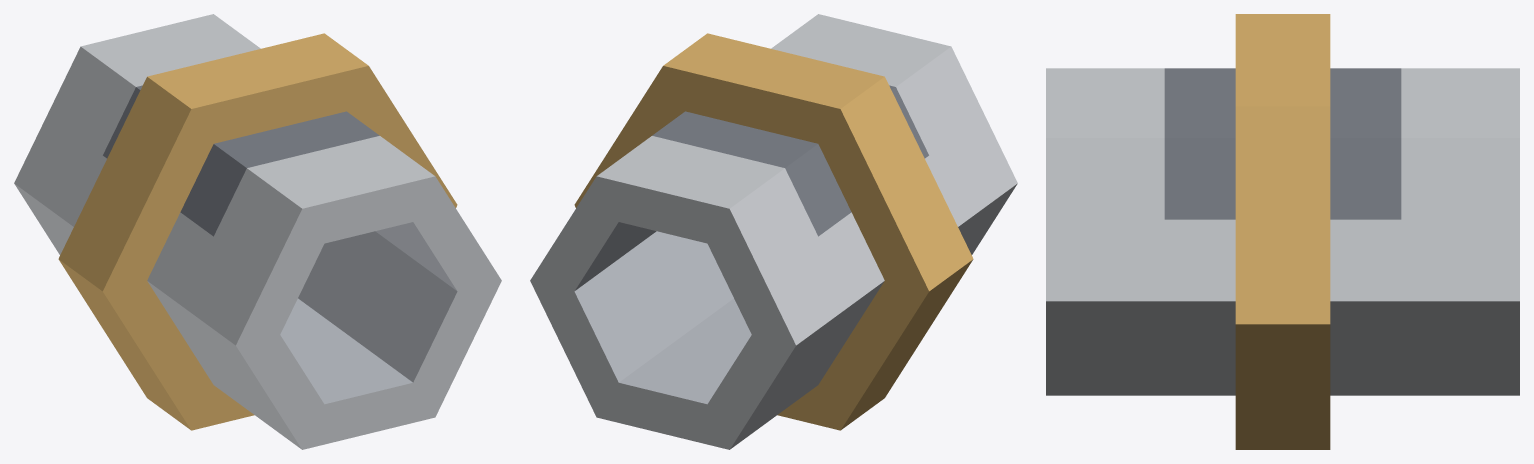
File: pipe_ring.glb
3 views of the same model, side by side, from view 1: azimuth 30°, elevation 25°; view 2: azimuth 150°, elevation 25°; view 3: azimuth 270°, elevation 25° (orthographic). The views are drawn at different scales.
Visible parts, largest first — view 1: pipe_ring; view 2: pipe_ring; view 3: pipe_ring.
Boxes of the visible parts, bbox=[...] form: pipe_ring: bbox=[14, 14, 501, 449]; pipe_ring: bbox=[530, 14, 1017, 449]; pipe_ring: bbox=[1046, 14, 1519, 449].
Bounding box in the file's own units: 1.15 × 1 × 1.25.
